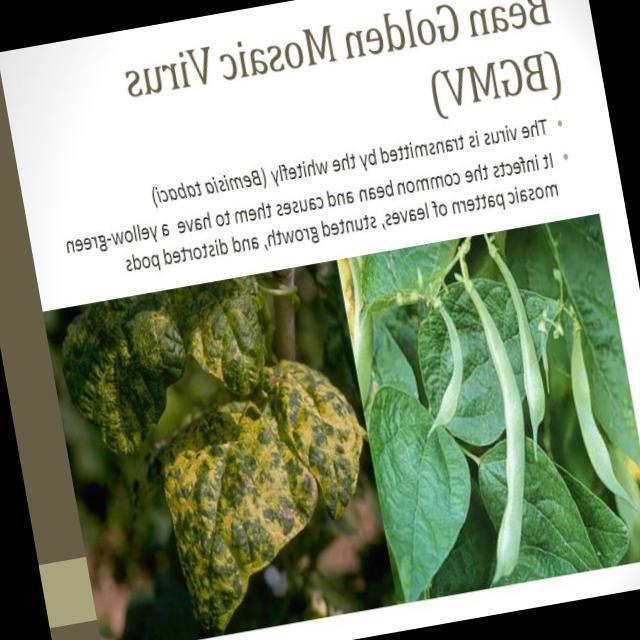Mosaic Virus: (50, 268, 276, 455), (146, 404, 334, 626), (262, 352, 372, 527)
